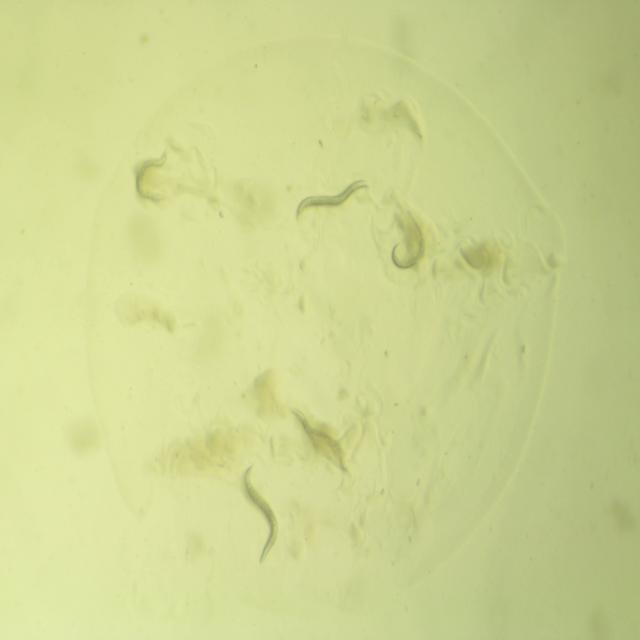worm: (284, 166, 376, 242), (229, 454, 288, 572), (284, 396, 356, 487), (120, 139, 180, 224), (379, 196, 433, 289)
